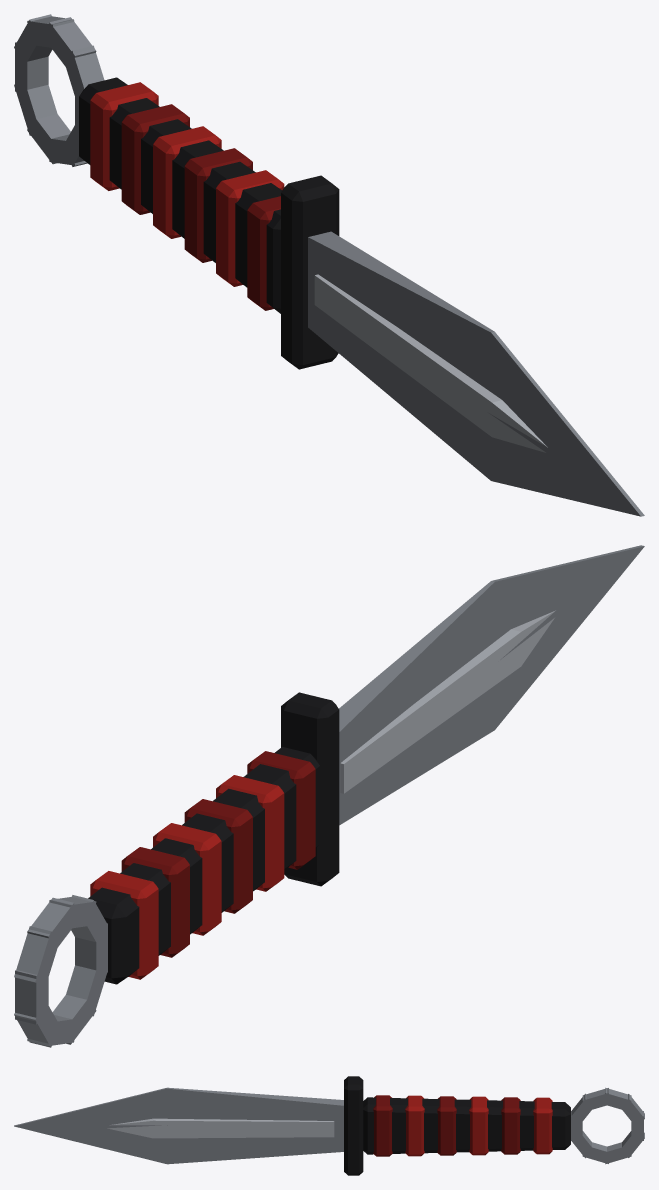
The model's file is Knife.fbx.
The picture shows the model from 3 angles, top to bottom: view 1: azimuth 30°, elevation 25°; view 2: azimuth 150°, elevation 25°; view 3: azimuth 270°, elevation 25°; orthographic projection. The views are drawn at different scales.
Visible parts, largest first — view 1: Knife; view 2: Knife; view 3: Knife.
Boxes of the visible parts, bbox=[...] form: Knife: bbox=[14, 14, 644, 516]; Knife: bbox=[14, 545, 644, 1047]; Knife: bbox=[14, 1076, 644, 1175].
Size of the model in its own units: 7.03 by 21.45 by 135.
